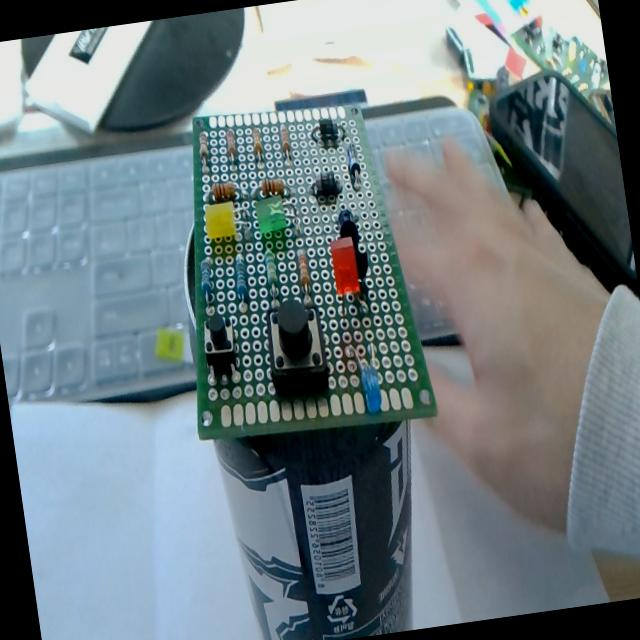diode: (308, 116, 349, 150), (308, 168, 344, 202), (346, 143, 364, 189)
led: (200, 177, 254, 251), (252, 175, 300, 242), (348, 340, 384, 416), (328, 234, 363, 299), (202, 200, 238, 242), (198, 255, 218, 304)
resistor: (200, 179, 248, 212), (263, 247, 282, 306), (252, 176, 292, 204), (296, 252, 314, 302), (233, 254, 251, 301), (196, 132, 212, 173), (211, 180, 236, 203), (251, 126, 265, 162), (279, 125, 292, 162), (225, 130, 239, 164)
switch: (262, 296, 332, 394), (199, 311, 239, 383)
transistor: (347, 240, 374, 298), (336, 208, 361, 246)
